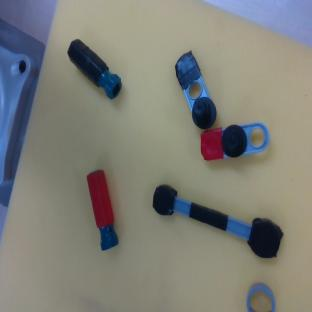part_1_bad: (169, 49, 221, 132)
part_1_good: (199, 122, 271, 160)
part_2_bad: (61, 35, 127, 101)
part_2_good: (85, 169, 120, 251)
part_3_bad: (146, 181, 286, 261)
part_3_good: (247, 284, 274, 311)
